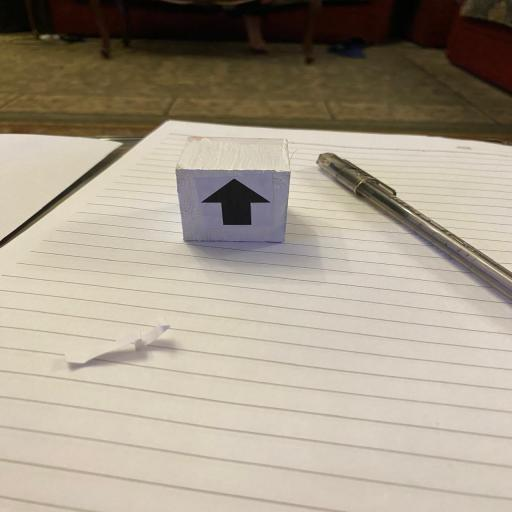Up: (172, 136, 296, 246)
